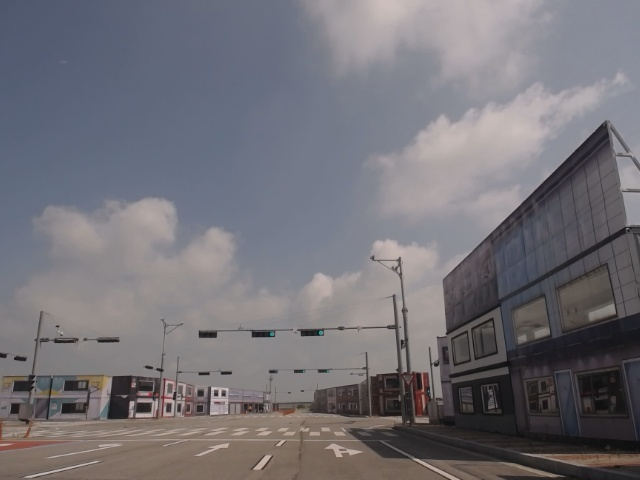straight_green_4: (251, 330, 276, 338), (300, 330, 327, 336)
